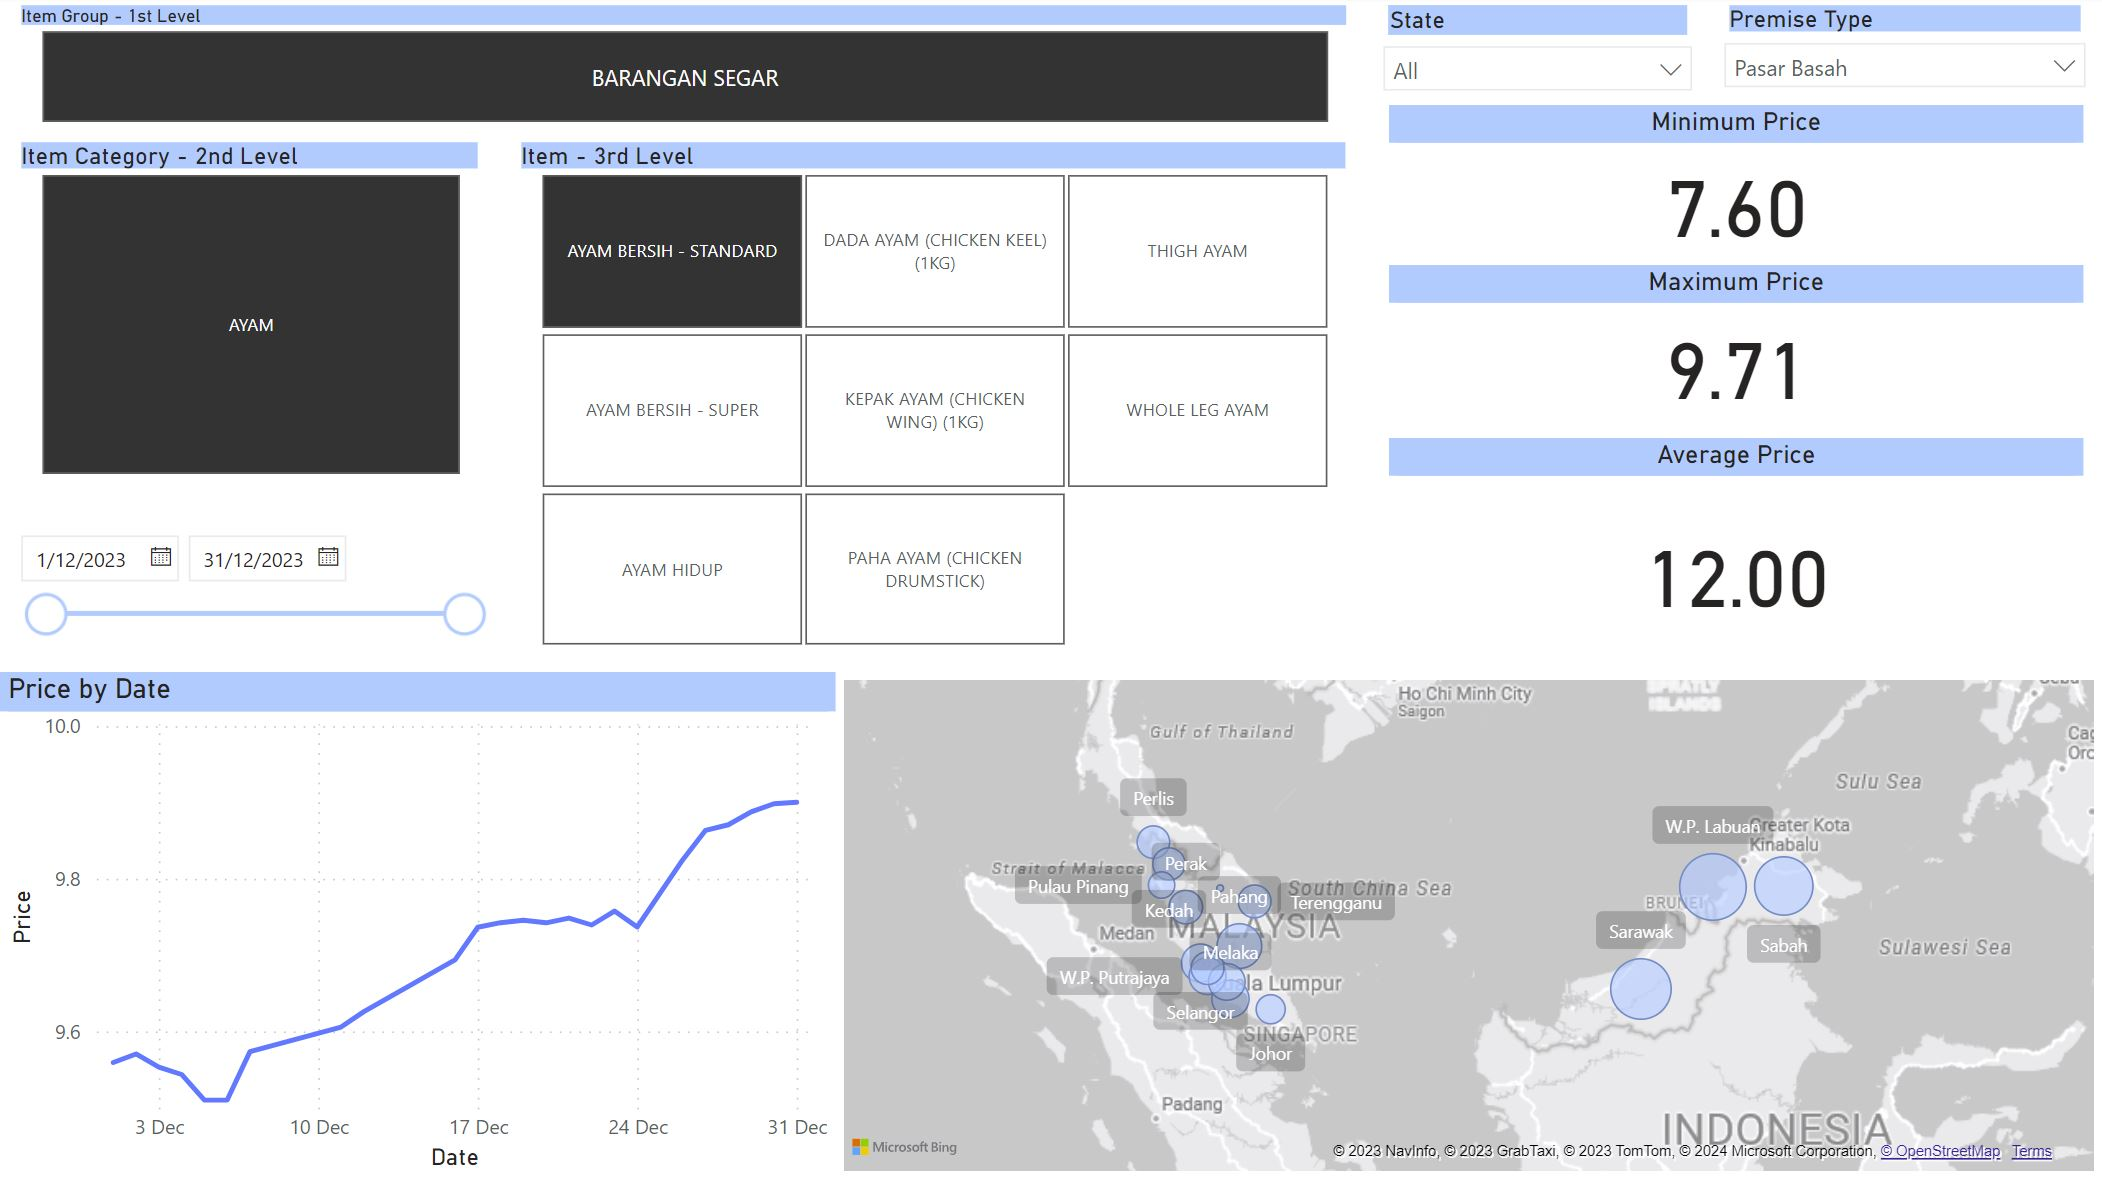

The page's visual inventory and layout, read from the dashboard file:
{"tool":"powerbi","page":{"name":"Page 1","canvas":[1280,720],"ordinal":0},"visuals":[{"type":"lineChart","title":"Price by Date","fields":{"Category":["pcdb price_catcher.date_pc"],"Y":["Avg(pcdb price_catcher.price)"]},"box":[0,411.2,509.3,308.4],"z":0},{"type":"slicer","fields":{"Values":["pcdb price_catcher.state"]},"box":[832.5,0,207.6,65.8],"z":1},{"type":"map","fields":{"Category":["pcdb price_catcher.state"],"Size":["Avg(pcdb price_catcher.price)"]},"box":[509.3,411.2,770.7,309.1],"z":2},{"type":"slicer","fields":{"Values":["pcdb price_catcher.item_group"]},"box":[0,0,832.5,83.3],"z":3},{"type":"slicer","fields":{"Values":["pcdb price_catcher.item_category"]},"box":[0,83.3,304.4,213.7],"z":4},{"type":"slicer","fields":{"Values":["pcdb price_catcher.item"]},"box":[304.4,83.3,528.1,318.5],"z":5},{"type":"slicer","fields":{"Values":["pcdb price_catcher.premise_type"]},"box":[1040.1,0,239.9,65.8],"z":6},{"type":"card","title":"Minimum Price","fields":{"Values":["Min(pcdb price_catcher.price)"]},"box":[845.9,65.8,423.3,97.4],"z":7},{"type":"card","title":"Average Price","fields":{"Values":["Max(pcdb price_catcher.price)"]},"box":[845.9,268.8,423.3,142.4],"z":9},{"type":"card","title":"Maximum Price","fields":{"Values":["Avg(pcdb price_catcher.price)"]},"box":[845.9,163.3,423.3,100.1],"z":10},{"type":"slicer","fields":{"Values":["pcdb price_catcher.date_pc"]},"box":[0,317.8,304.4,84],"z":11}]}

Visuals, with their boxes in screenshot pixels (x1, y1, x2, y2), scaled from the page's 1280x720 canvas onto the 2102x1177 screenshot:
"Price by Date" lineChart: pyautogui.locateOnScreen(0, 672, 836, 1176)
slicer - pcdb price_catcher.state: pyautogui.locateOnScreen(1367, 0, 1708, 108)
map - pcdb price_catcher.state x Avg(pcdb price_catcher.price): pyautogui.locateOnScreen(836, 672, 2101, 1176)
slicer - pcdb price_catcher.item_group: pyautogui.locateOnScreen(0, 0, 1367, 136)
slicer - pcdb price_catcher.item_category: pyautogui.locateOnScreen(0, 136, 500, 486)
slicer - pcdb price_catcher.item: pyautogui.locateOnScreen(500, 136, 1367, 657)
slicer - pcdb price_catcher.premise_type: pyautogui.locateOnScreen(1708, 0, 2101, 108)
"Minimum Price" card: pyautogui.locateOnScreen(1389, 108, 2084, 267)
"Average Price" card: pyautogui.locateOnScreen(1389, 439, 2084, 672)
"Maximum Price" card: pyautogui.locateOnScreen(1389, 267, 2084, 431)
slicer - pcdb price_catcher.date_pc: pyautogui.locateOnScreen(0, 520, 500, 657)
